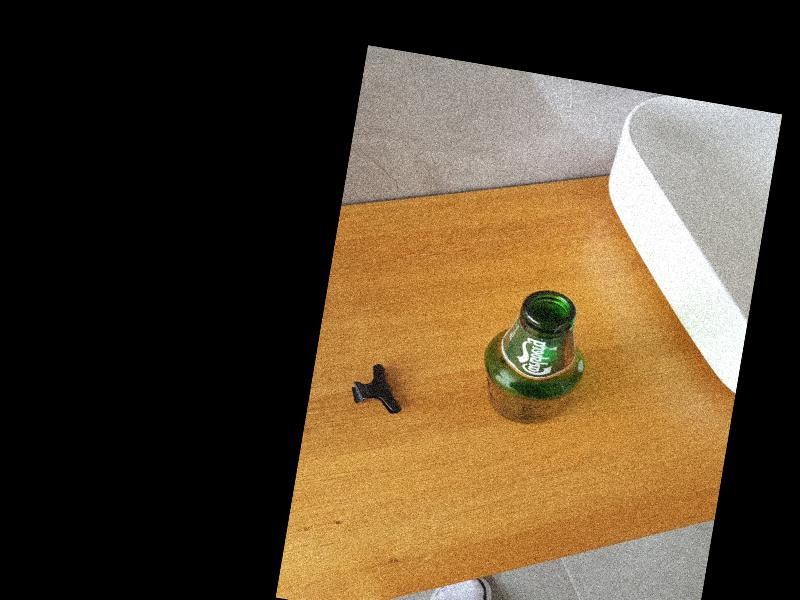Beer: (474, 282, 597, 432)
